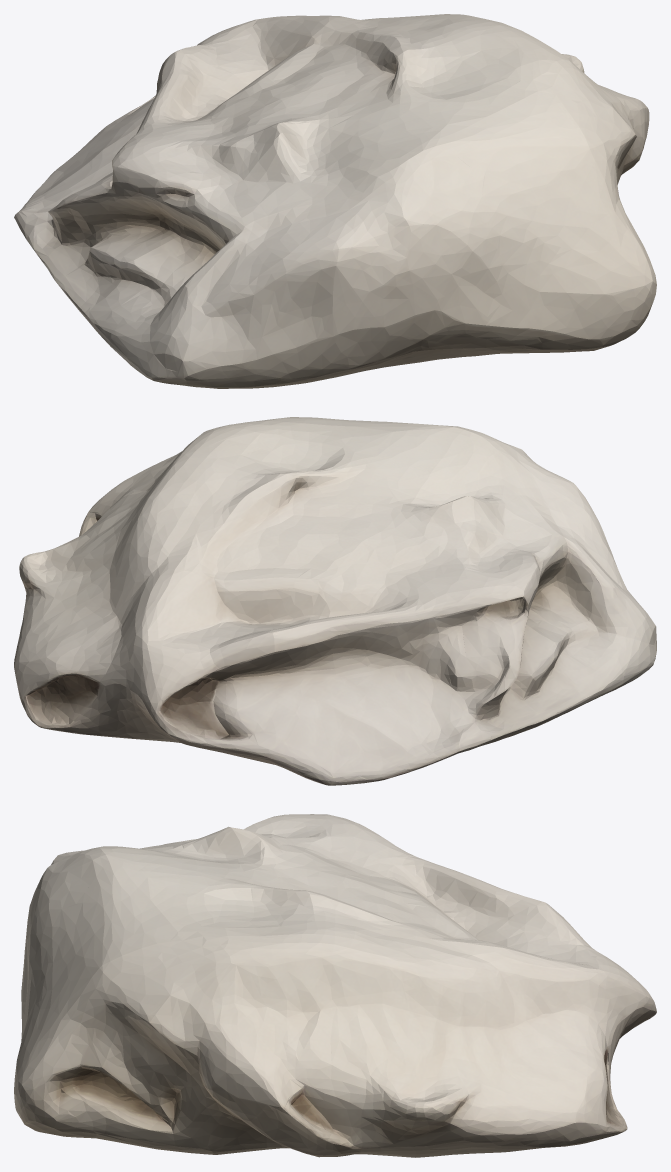
Rendered from object_1_bag.glb.
The picture shows the model from 3 angles, top to bottom: view 1: azimuth 30°, elevation 25°; view 2: azimuth 150°, elevation 25°; view 3: azimuth 270°, elevation 25°; orthographic projection. The views are drawn at different scales.
Visible parts, largest first — view 1: world; view 2: world; view 3: world.
Part boxes in pixels (box(x1,y1,x2,y2)): world: box(14, 14, 656, 388); world: box(14, 417, 656, 785); world: box(14, 814, 656, 1157).
Bounding box in the file's own units: 0.9983 × 0.3675 × 0.9991.
Materials: 1 (1 with a texture image).
